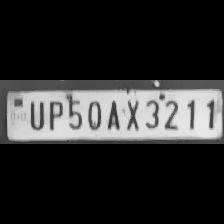0: (84, 97, 104, 129)
1: (181, 97, 199, 130), (200, 97, 218, 130)
2: (160, 97, 180, 131)
3: (140, 96, 160, 130)
5: (64, 97, 84, 130)
A: (102, 97, 122, 130)
P: (44, 97, 64, 130)
U: (26, 98, 46, 130)
X: (122, 97, 140, 130)
